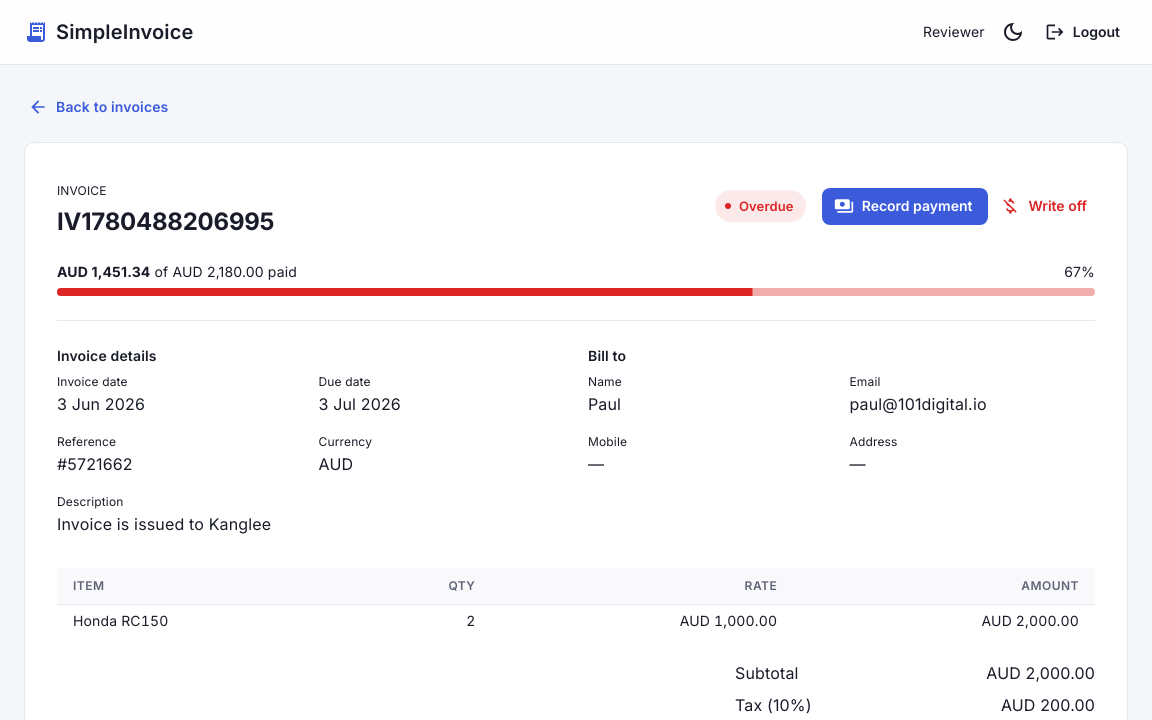
Test: Writing off a balance › writes off the rest of the balance as bad debt
Click the button "Write off" at (1046, 206), box top-left (996, 188), bottom-right (1095, 225)
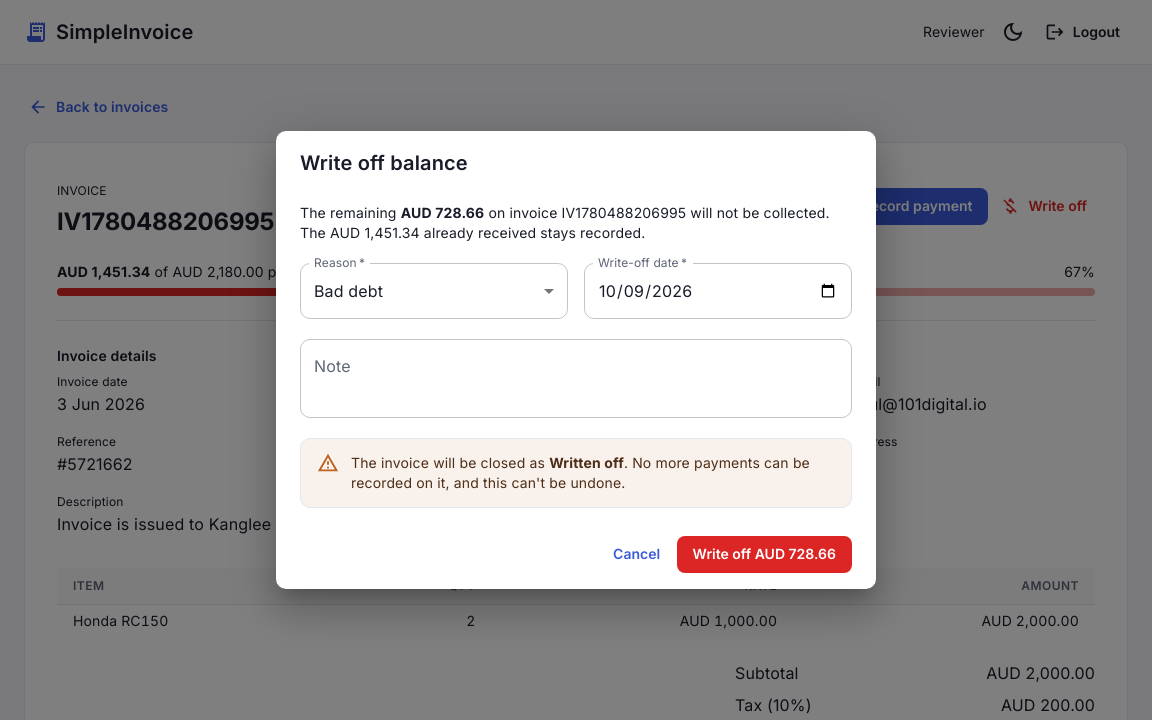
Expected: the text "AUD 728.66" is shown, top-left (401, 204), bottom-right (484, 221)
Expected: the text "AUD 1,451.34 already received stays recorded" is shown, top-left (300, 224), bottom-right (646, 241)
Type "Customer went into liquidation" into the text box labelled "Note" at (576, 379), box top-left (314, 356), bottom-right (838, 402)
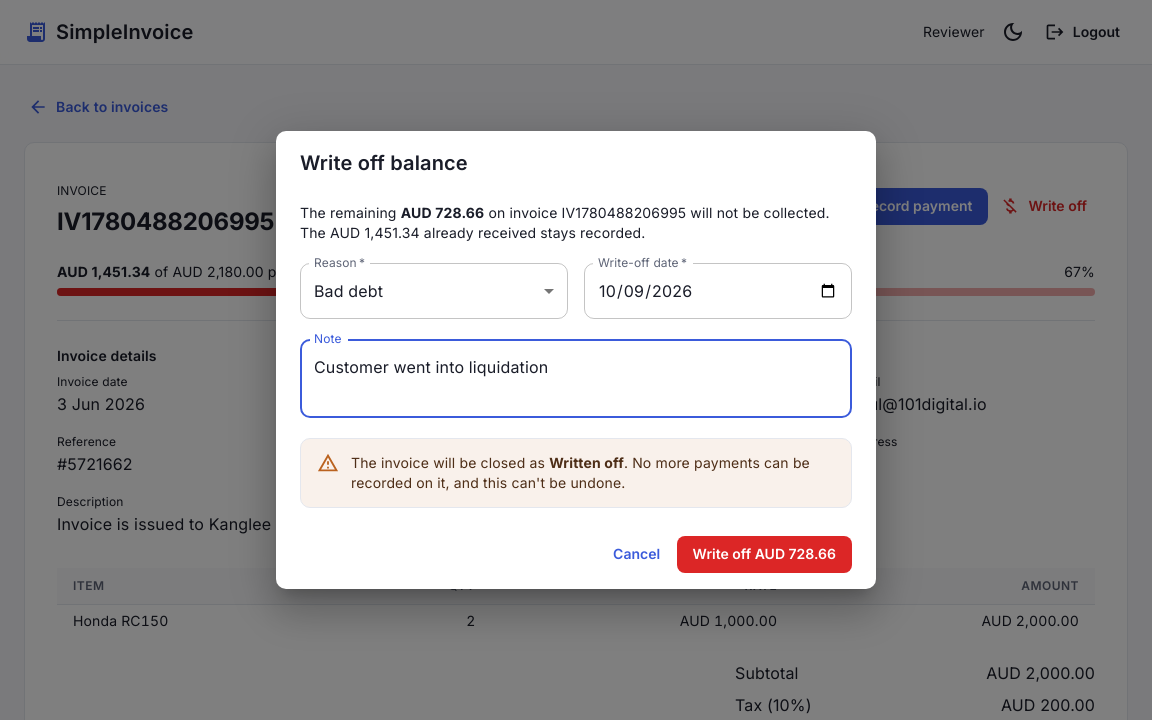
Click the button "Write off AUD 728.66" at (764, 555), box top-left (677, 536), bottom-right (852, 573)
(page scrolled)
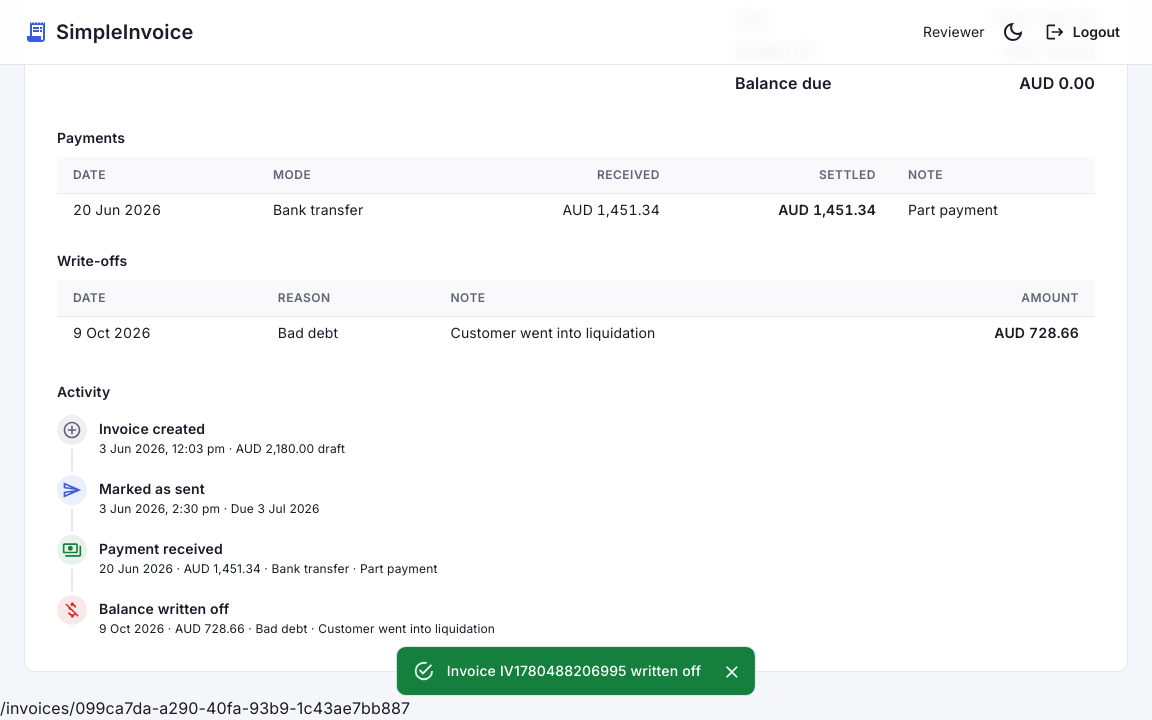
Expected: the text "Invoice IV1780488206995 written off" is shown, top-left (447, 662), bottom-right (701, 679)
Expected: the button "Record payment" is gone
Expected: the button "Write off" is gone
